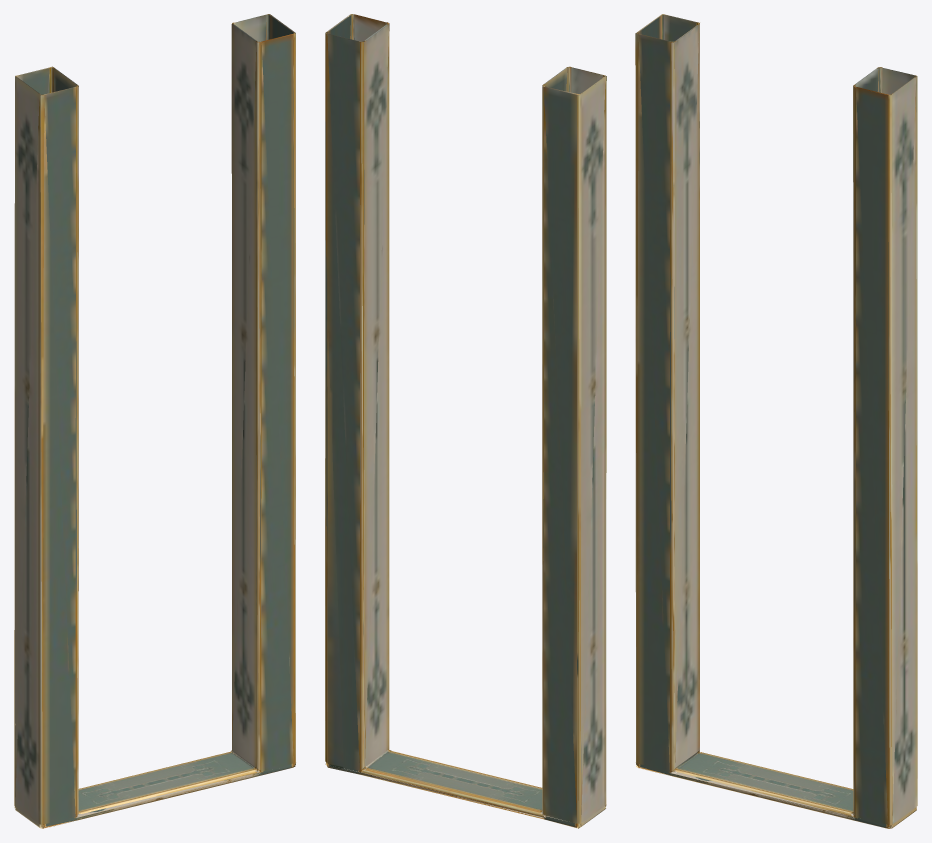
The model's file is item19.glb.
The picture shows the model from 3 angles, left to right: view 1: azimuth 30°, elevation 25°; view 2: azimuth 150°, elevation 25°; view 3: azimuth 330°, elevation 25°; orthographic projection.
Parts seen in each view (by area): view 1: Mesh_0; view 2: Mesh_0; view 3: Mesh_0.
Part boxes in pixels (x1,y1,x2,y2): Mesh_0: (14, 14, 295, 828); Mesh_0: (325, 14, 606, 828); Mesh_0: (635, 14, 917, 828).
Bounding box in the file's own units: 0.3653 × 1 × 0.0689.
Materials: 1 (1 with a texture image).
